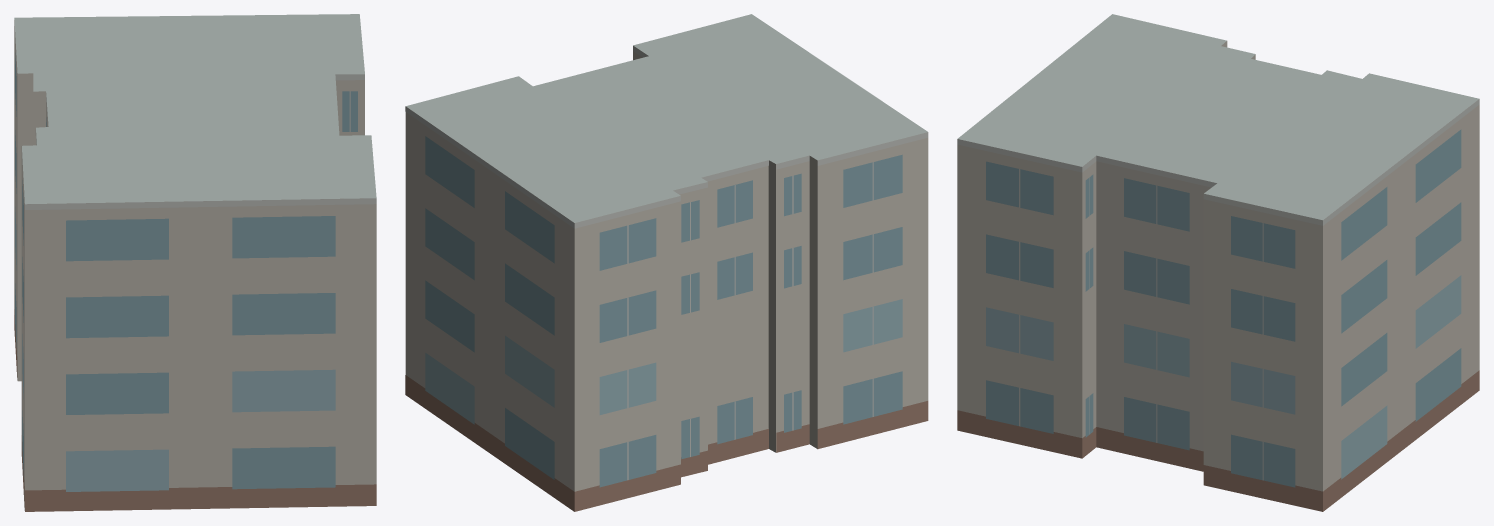
The model's file is survey-upis-32659049.glb.
3 renders of one model, left to right at view 1: azimuth 30°, elevation 25°; view 2: azimuth 150°, elevation 25°; view 3: azimuth 270°, elevation 25°, orthographic. The views are drawn at different scales.
Parts seen in each view (by area): view 1: survey-upis-32659049.tmp; view 2: survey-upis-32659049.tmp; view 3: survey-upis-32659049.tmp.
Boxes of the visible parts, x1,y1,x2,y2 form: survey-upis-32659049.tmp: (14, 14, 376, 511); survey-upis-32659049.tmp: (405, 14, 928, 511); survey-upis-32659049.tmp: (957, 14, 1479, 511).
Size of the model in its own units: 19.18 by 12.64 by 20.52.
